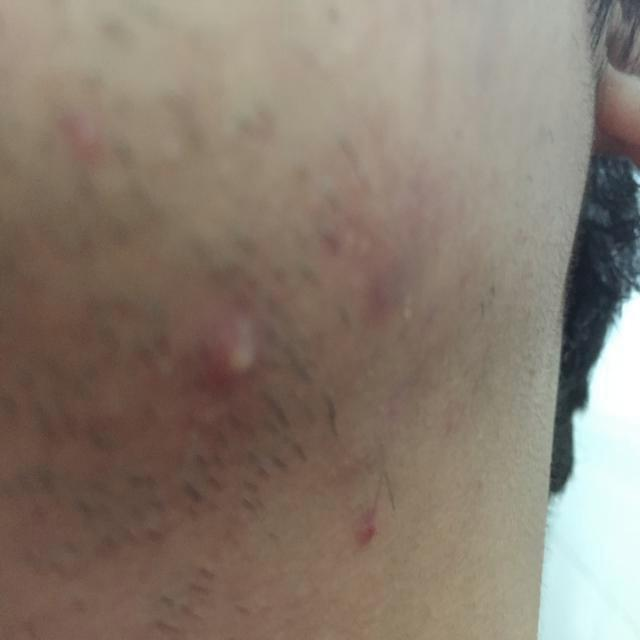Pimples: (197, 300, 265, 399), (49, 83, 112, 182), (347, 484, 393, 556)
